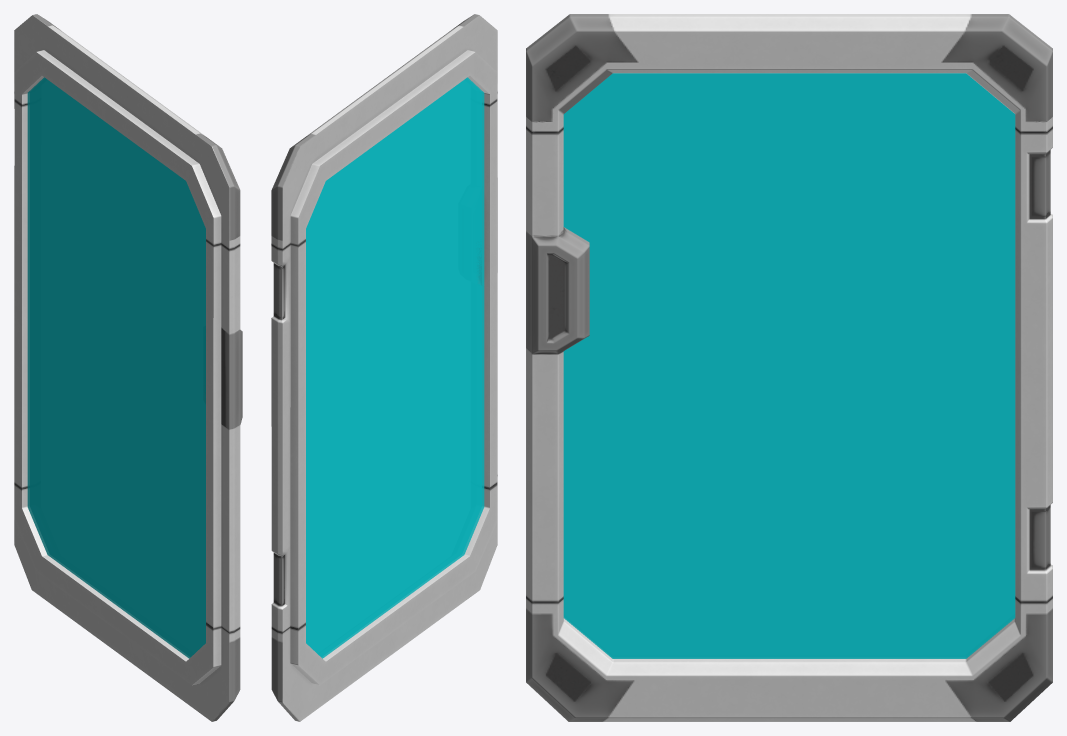
The model's file is SM_LabFridge01_1_Door.FBX.
3 views of the same model, side by side, from view 1: azimuth 30°, elevation 25°; view 2: azimuth 150°, elevation 25°; view 3: azimuth 270°, elevation 25° (orthographic). The views are drawn at different scales.
Visible parts, largest first — view 1: SM_LabFridge01_1_Door; view 2: SM_LabFridge01_1_Door; view 3: SM_LabFridge01_1_Door.
Boxes of the visible parts, x1,y1,x2,y2 form: SM_LabFridge01_1_Door: (14, 14, 242, 721); SM_LabFridge01_1_Door: (271, 14, 497, 721); SM_LabFridge01_1_Door: (526, 14, 1052, 721).
Size of what is drawn, in the model's own units: 7.5 by 107 by 158.
